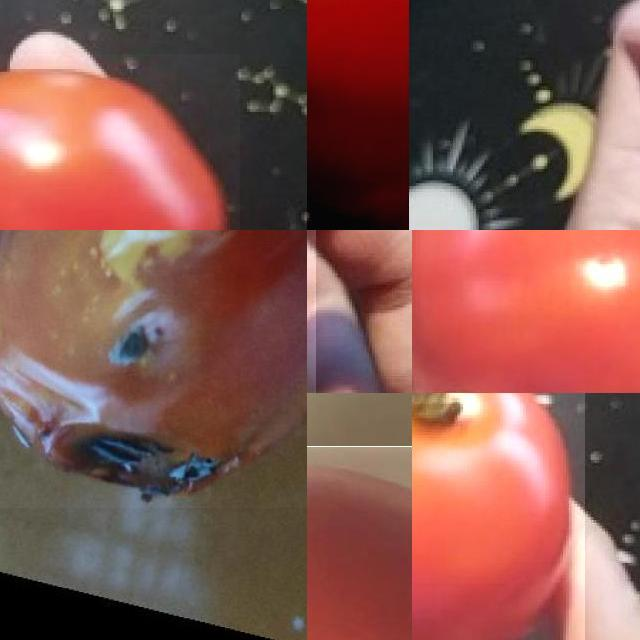1: (0, 230, 307, 508)
Fresh Tomato: (412, 393, 585, 640), (0, 54, 239, 230), (412, 230, 640, 393), (307, 0, 409, 230)
